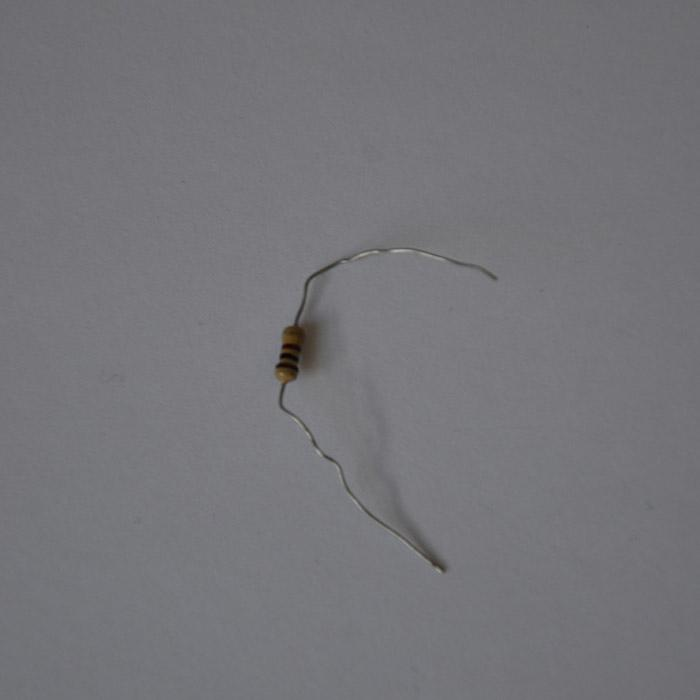resistor: (274, 324, 303, 383)
